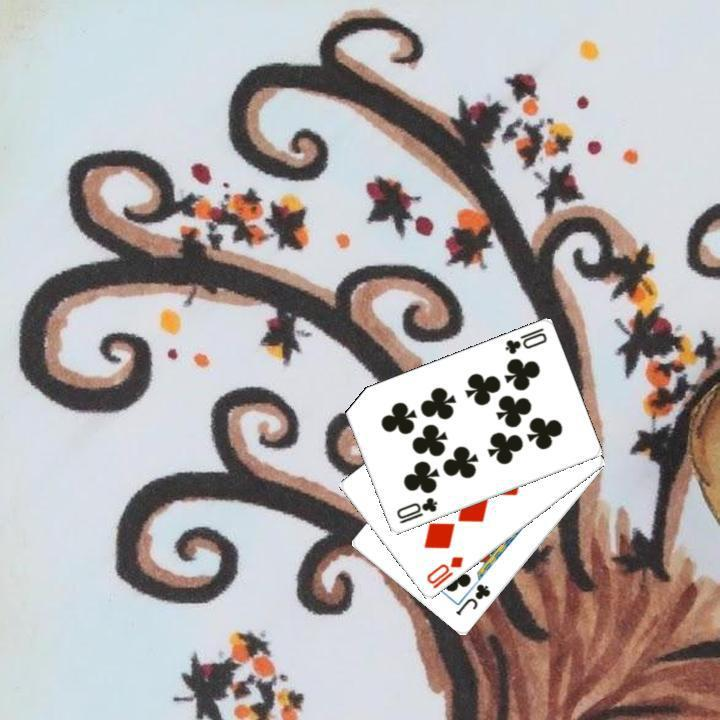10: (422, 552, 465, 591), (500, 324, 549, 357), (392, 493, 440, 526)
J: (451, 580, 493, 618)
